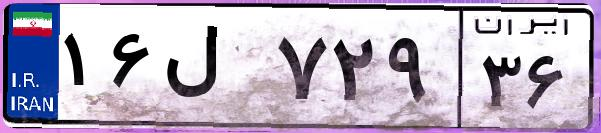1: (57, 26, 110, 100)
2: (330, 28, 385, 110)
3: (475, 38, 525, 113)
6: (525, 38, 570, 115), (110, 28, 158, 98)
7: (270, 28, 330, 110)
9: (385, 28, 445, 110)
ل: (158, 20, 270, 120)
